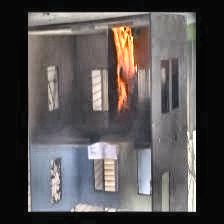fire: (108, 19, 142, 113)
